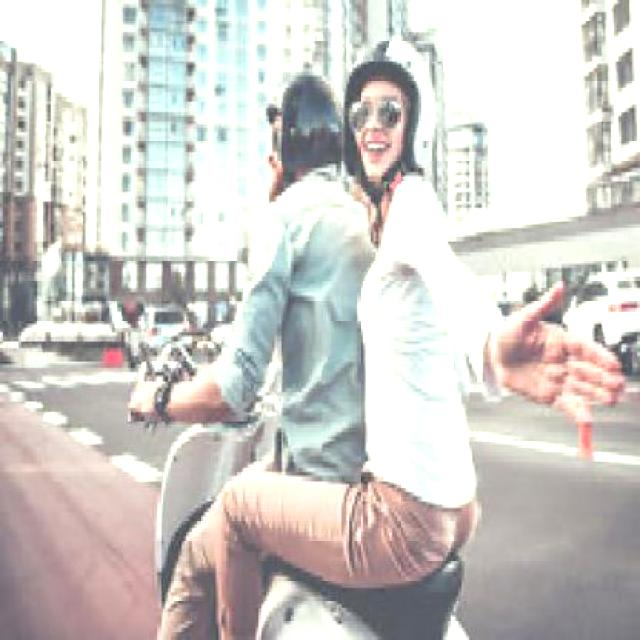With Helmet: (338, 35, 437, 180), (254, 65, 340, 192)
